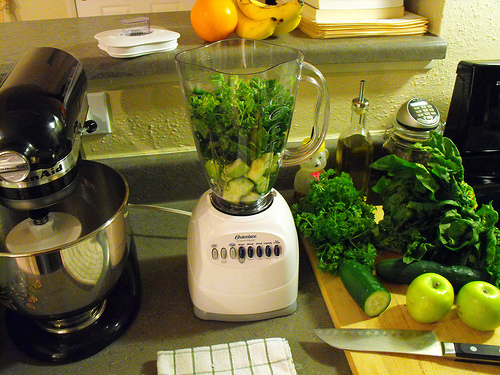cucumber: (374, 259, 496, 289), (339, 257, 391, 319)
